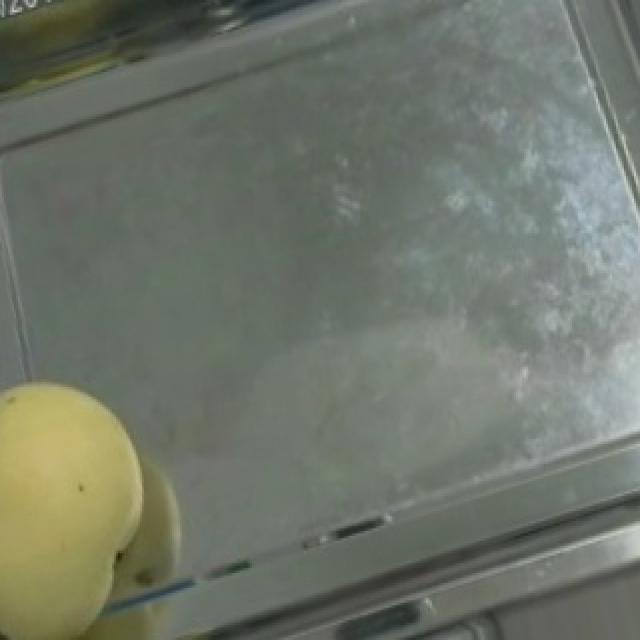Fruit: (0, 347, 180, 640)
